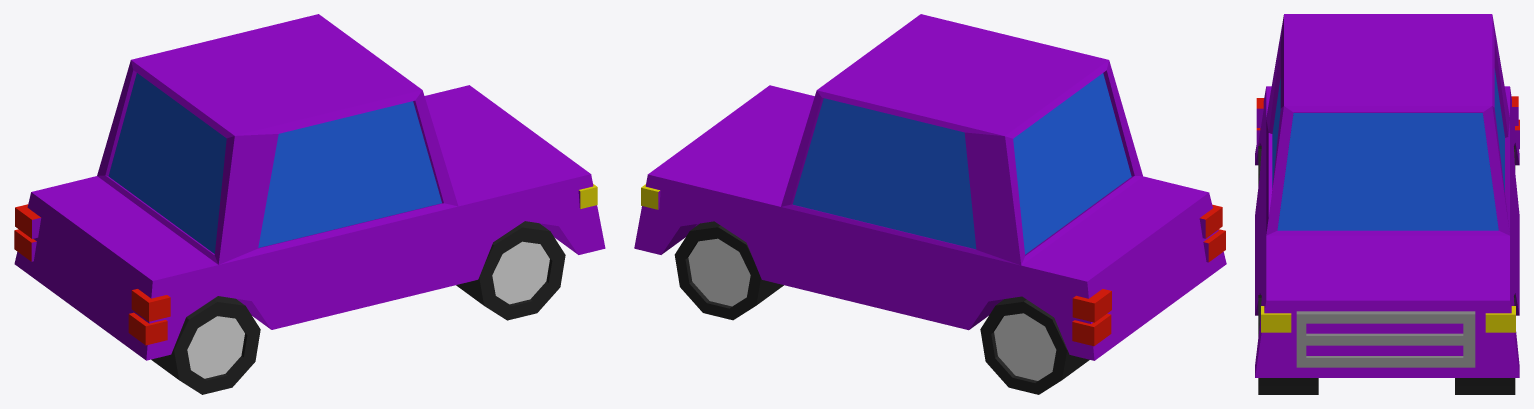
The model's file is car3.fbx.
The picture shows the model from 3 angles, left to right: view 1: azimuth 30°, elevation 25°; view 2: azimuth 150°, elevation 25°; view 3: azimuth 270°, elevation 25°; orthographic projection.
Parts seen in each view (by area): view 1: Car; view 2: Car; view 3: Car.
Part boxes in pixels (x1,y1,x2,y2): Car: [14, 14, 605, 394]; Car: [634, 14, 1226, 394]; Car: [1255, 14, 1519, 394].
Bounding box in the file's own units: 417 × 205 × 206.
